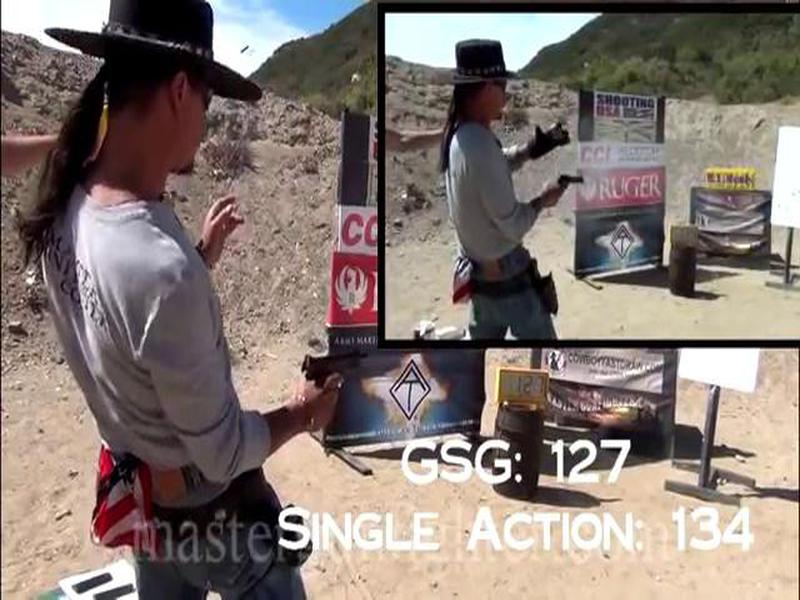Pistola: (294, 348, 378, 426)
